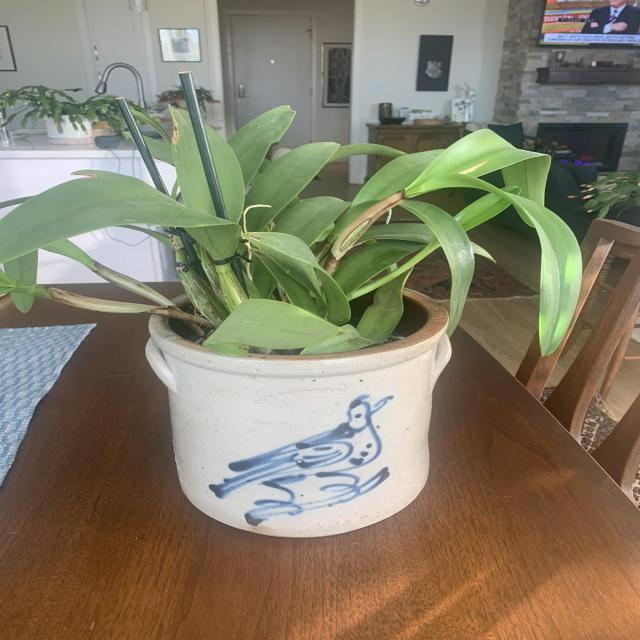leaf: (1, 175, 233, 263), (506, 193, 581, 351), (403, 199, 473, 335), (334, 152, 436, 227), (205, 299, 343, 351), (247, 143, 337, 220), (335, 237, 424, 298), (228, 107, 293, 185), (172, 108, 213, 210), (244, 232, 319, 267)
plant: (1, 23, 627, 593)
pot: (140, 270, 469, 546)
stem: (47, 288, 210, 326), (171, 230, 229, 327), (91, 261, 174, 308), (214, 265, 248, 312)
